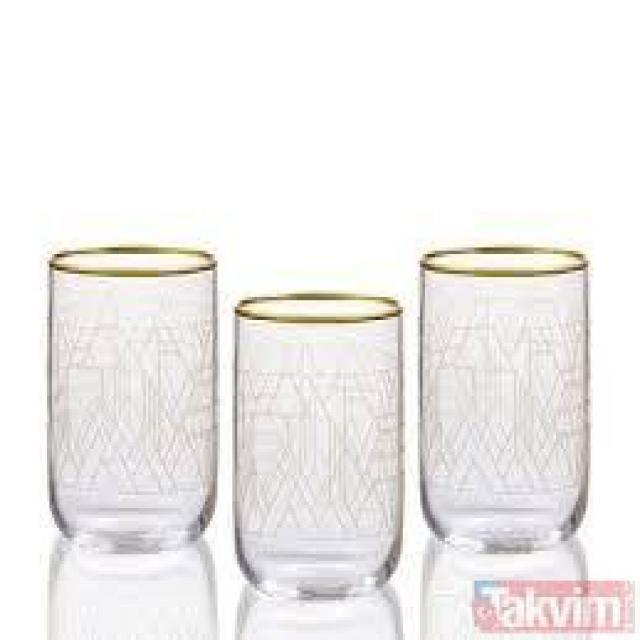glass: (231, 290, 407, 600)
